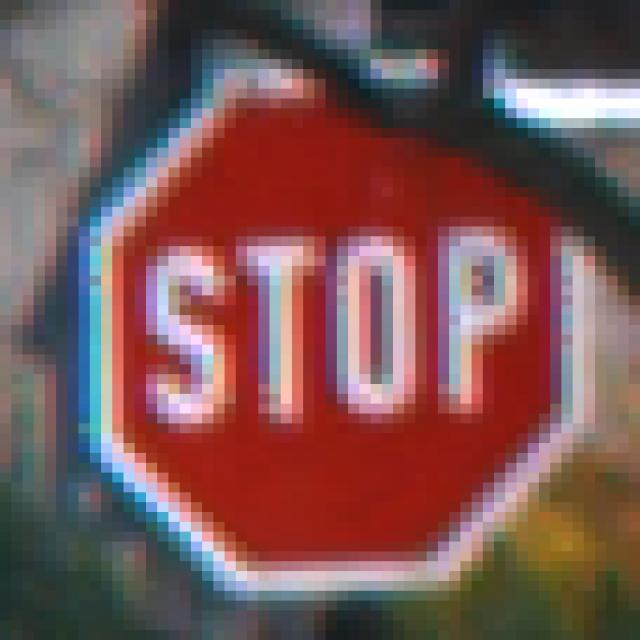STOP: (68, 60, 585, 592)
